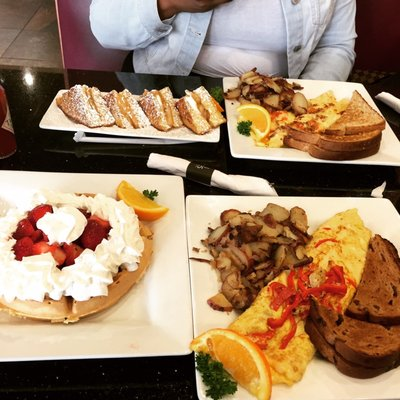curry: (194, 352, 238, 400)
sandwich: (147, 154, 279, 195)
soup: (228, 209, 400, 384), (1, 185, 158, 324), (176, 85, 226, 135), (137, 87, 183, 130)
taco: (116, 179, 168, 221), (236, 104, 272, 146)
